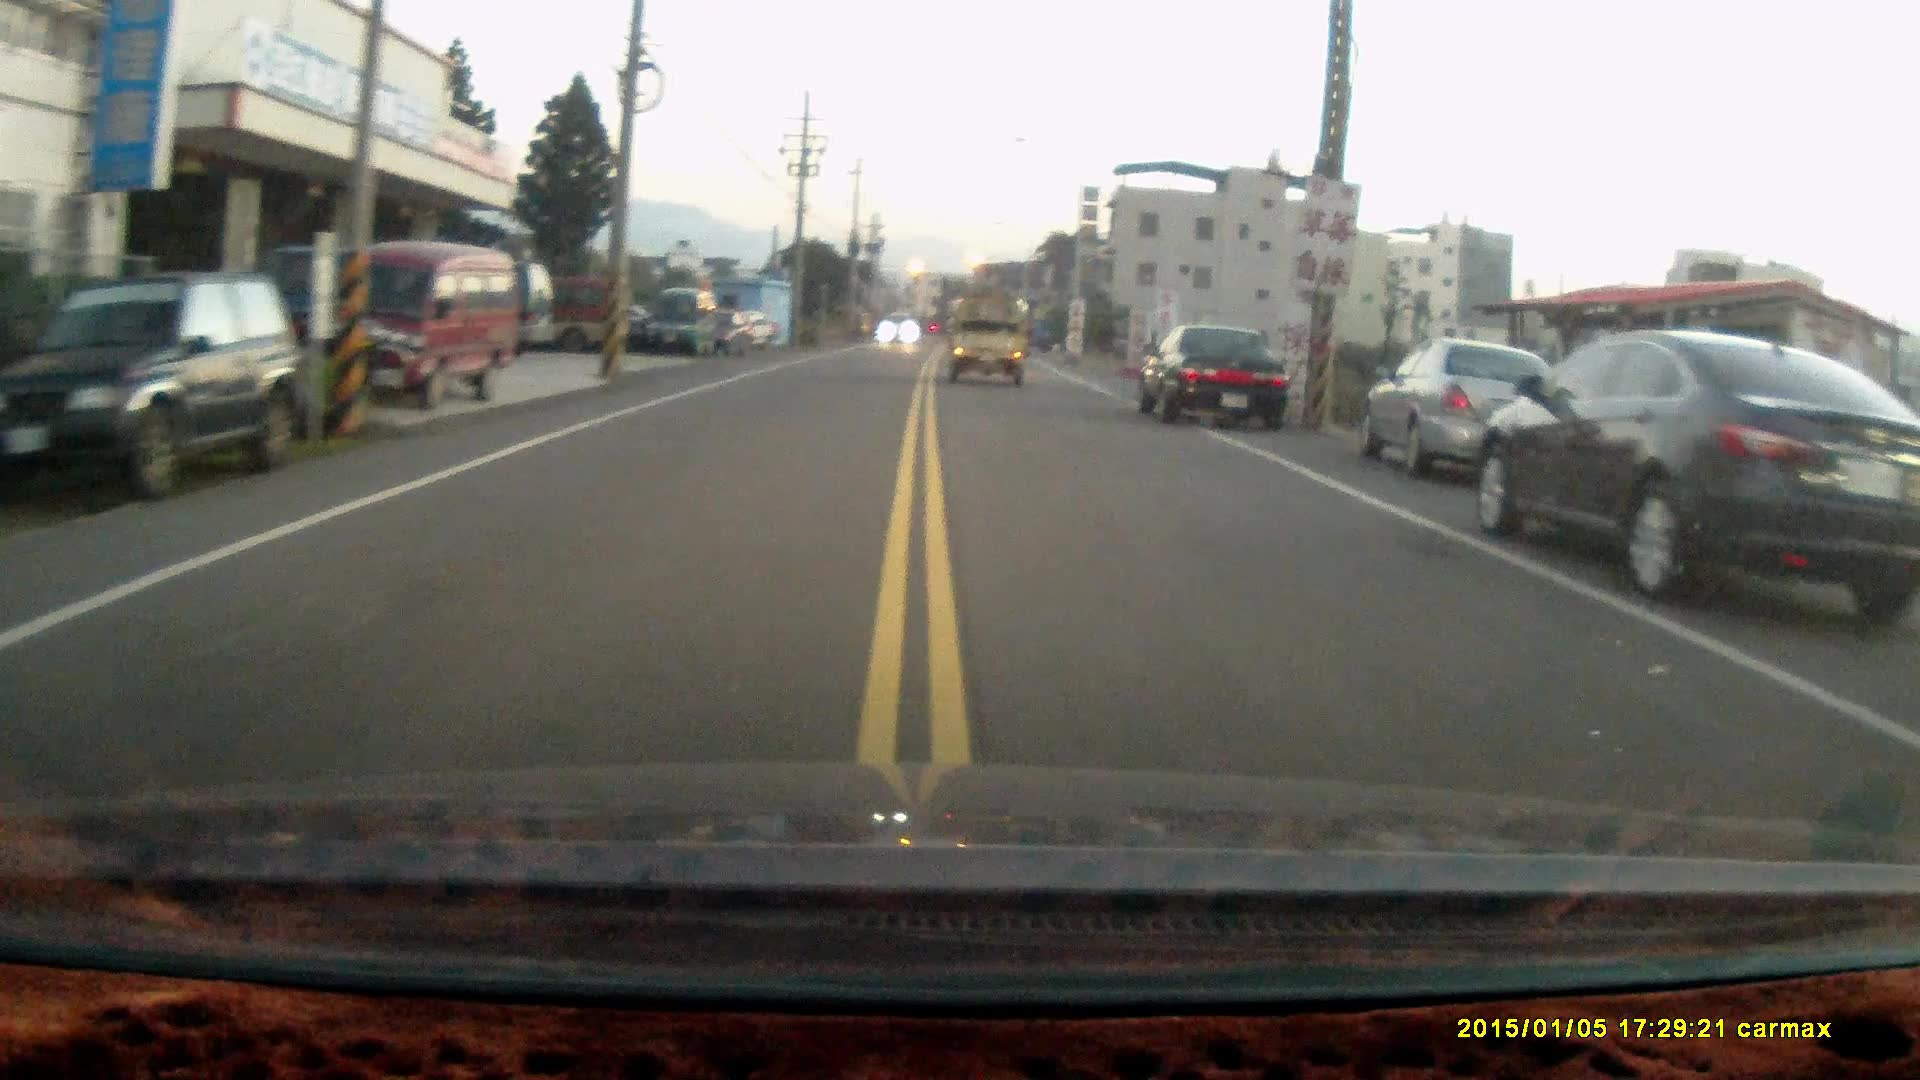vehicle: (1472, 328, 1919, 613), (1, 276, 330, 492), (291, 239, 521, 401), (1360, 331, 1571, 477), (1131, 318, 1294, 431), (952, 293, 1035, 382), (647, 284, 720, 351)
